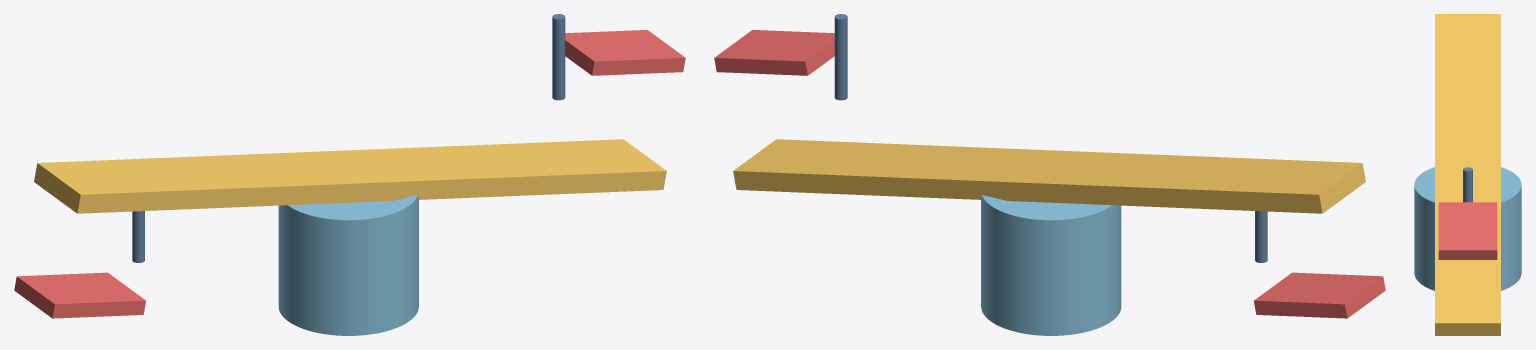
The model's file is seesaw.glb.
3 views of the same model, side by side, from view 1: azimuth 30°, elevation 25°; view 2: azimuth 150°, elevation 25°; view 3: azimuth 270°, elevation 25° (orthographic). The views are drawn at different scales.
Parts seen in each view (by area): view 1: plank, base, seatL, seatR, gripR, gripL; view 2: plank, base, seatL, seatR, gripR, gripL; view 3: plank, base, seatR, gripR.
Boxes of the visible parts, x1,y1,x2,y2 form: plank: (34, 139, 666, 213); base: (278, 195, 418, 335); seatL: (14, 272, 145, 318); seatR: (565, 30, 685, 75); gripR: (552, 14, 565, 100); gripL: (132, 211, 144, 262); plank: (733, 139, 1365, 213); base: (981, 195, 1121, 335); seatL: (1254, 272, 1385, 318); seatR: (714, 30, 834, 75); gripR: (834, 14, 847, 100); gripL: (1255, 211, 1267, 262); plank: (1435, 14, 1500, 335); base: (1414, 167, 1521, 290); seatR: (1438, 202, 1497, 259); gripR: (1463, 167, 1472, 202).
Bounding box in the file's own units: 2.86 × 1.03 × 0.55.
